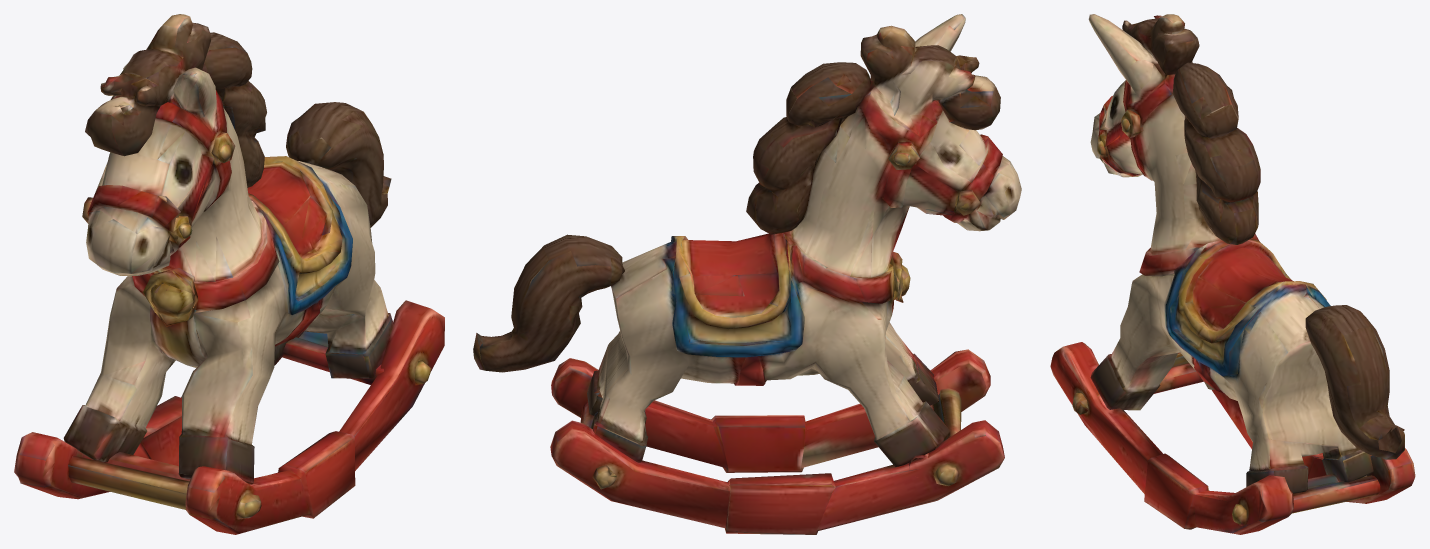
Rendered from prop_toy_horse.glb.
The picture shows the model from 3 angles, left to right: view 1: azimuth 30°, elevation 25°; view 2: azimuth 150°, elevation 25°; view 3: azimuth 270°, elevation 25°; orthographic projection. The views are drawn at different scales.
Size of the model in its own units: 0.2402 by 0.2476 by 0.1865.
1 material, 1 textured.
